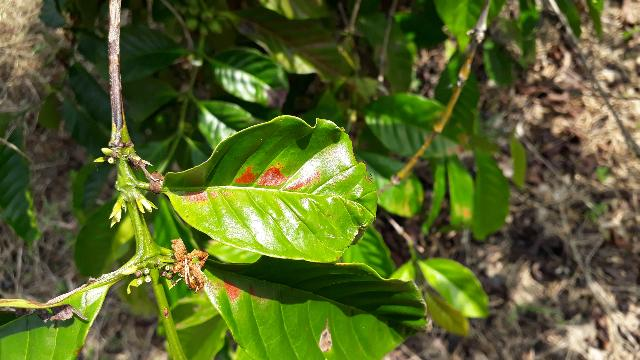red_spider_mite: (164, 115, 376, 261)
